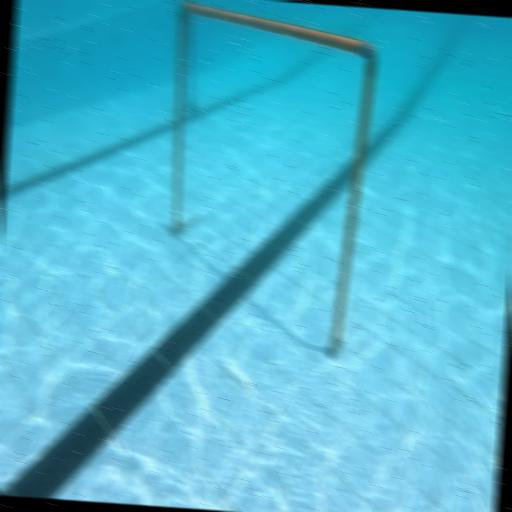gate: (154, 0, 382, 360)
